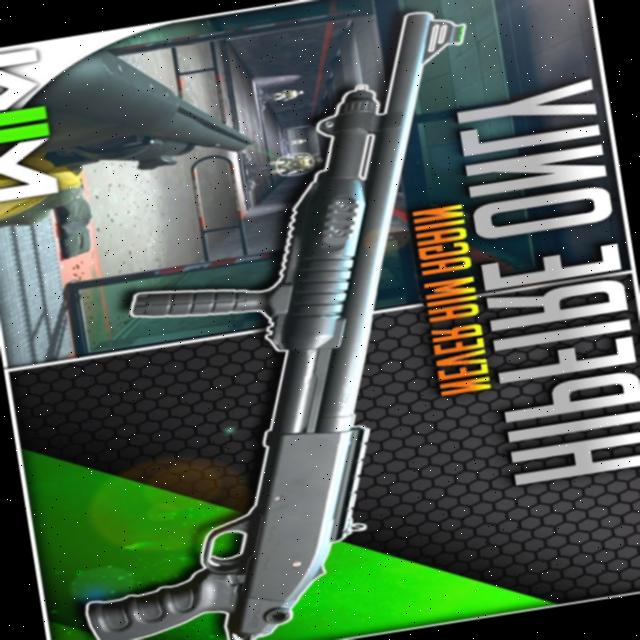Shotgun: (13, 35, 547, 640), (0, 23, 260, 206)
